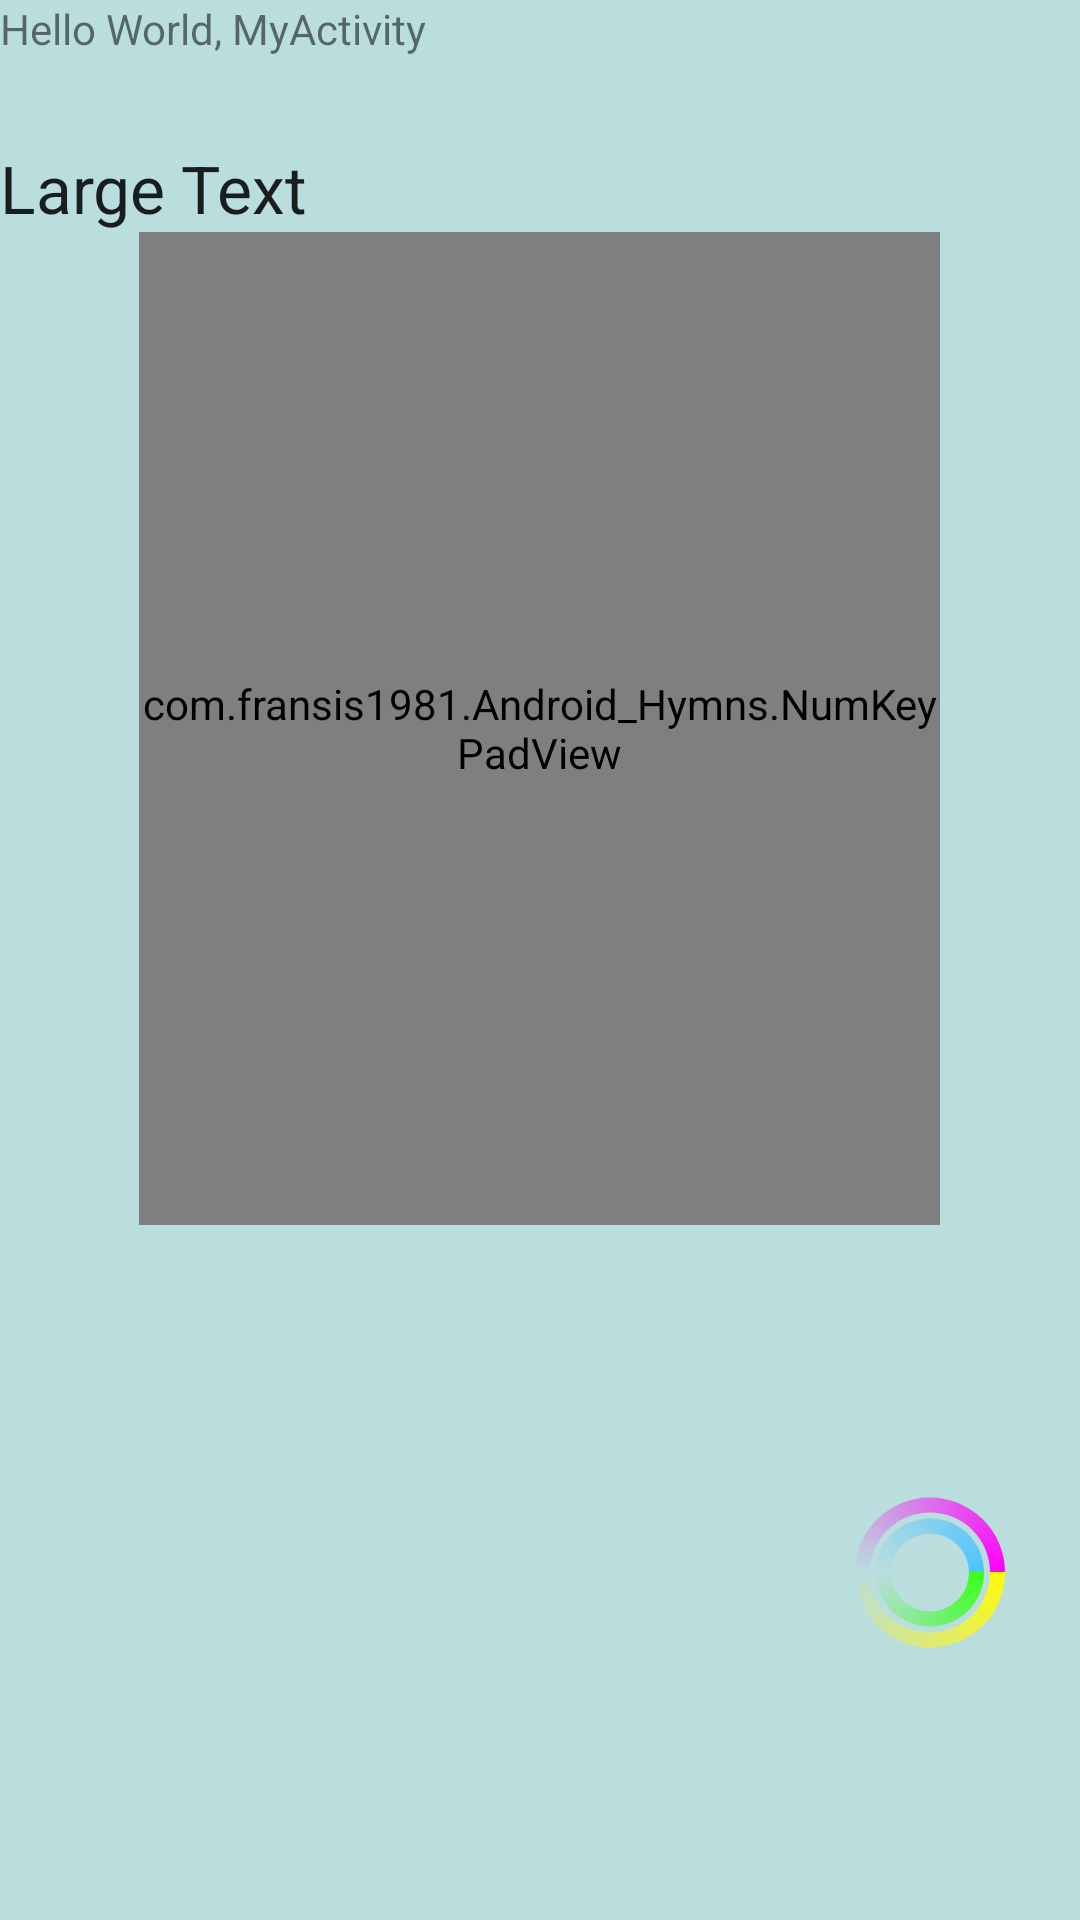

Icons on this 1080x1920 Android screen, each with its box as (x1, y1, x2, y2):
spinner: (860, 1497, 1005, 1648)
